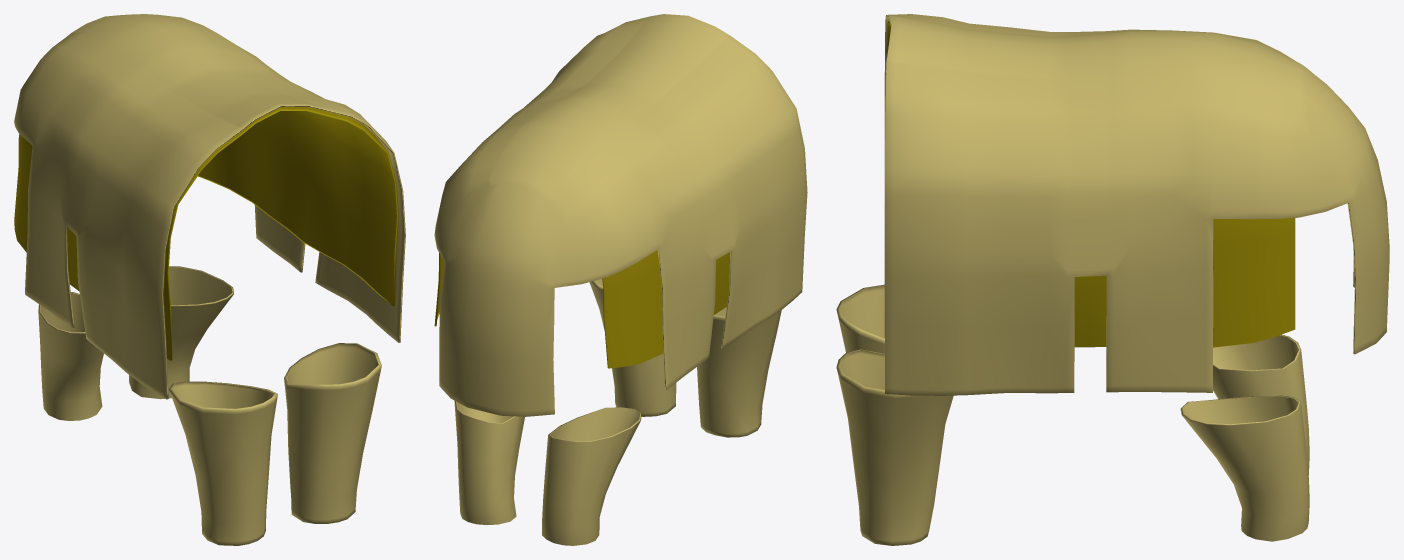
The model's file is BodyArmour.fbx.
The picture shows the model from 3 angles, left to right: view 1: azimuth 30°, elevation 25°; view 2: azimuth 150°, elevation 25°; view 3: azimuth 270°, elevation 25°; orthographic projection. The views are drawn at different scales.
Parts seen in each view (by area): view 1: Cotton_Layer2, LegArmour_Front, Cotton_Layer1, LegArmour_Back; view 2: Cotton_Layer2, LegArmour_Back, LegArmour_Front, Cotton_Layer1; view 3: Cotton_Layer2, LegArmour_Back, LegArmour_Front, Cotton_Layer1.
Part boxes in pixels (left/top/right/bottom): Cotton_Layer2: left=14, top=14, right=405, bottom=399; LegArmour_Front: left=169, top=343, right=381, bottom=545; Cotton_Layer1: left=14, top=107, right=398, bottom=360; LegArmour_Back: left=38, top=266, right=233, bottom=420; Cotton_Layer2: left=434, top=14, right=807, bottom=416; LegArmour_Back: left=454, top=400, right=641, bottom=545; LegArmour_Front: left=589, top=279, right=781, bottom=437; Cotton_Layer1: left=434, top=250, right=730, bottom=368; Cotton_Layer2: left=884, top=14, right=1389, bottom=395; LegArmour_Back: left=1180, top=334, right=1309, bottom=541; LegArmour_Front: left=836, top=284, right=953, bottom=545; Cotton_Layer1: left=887, top=21, right=1295, bottom=347.
Size of the model in its own units: 142 by 223 by 232.
